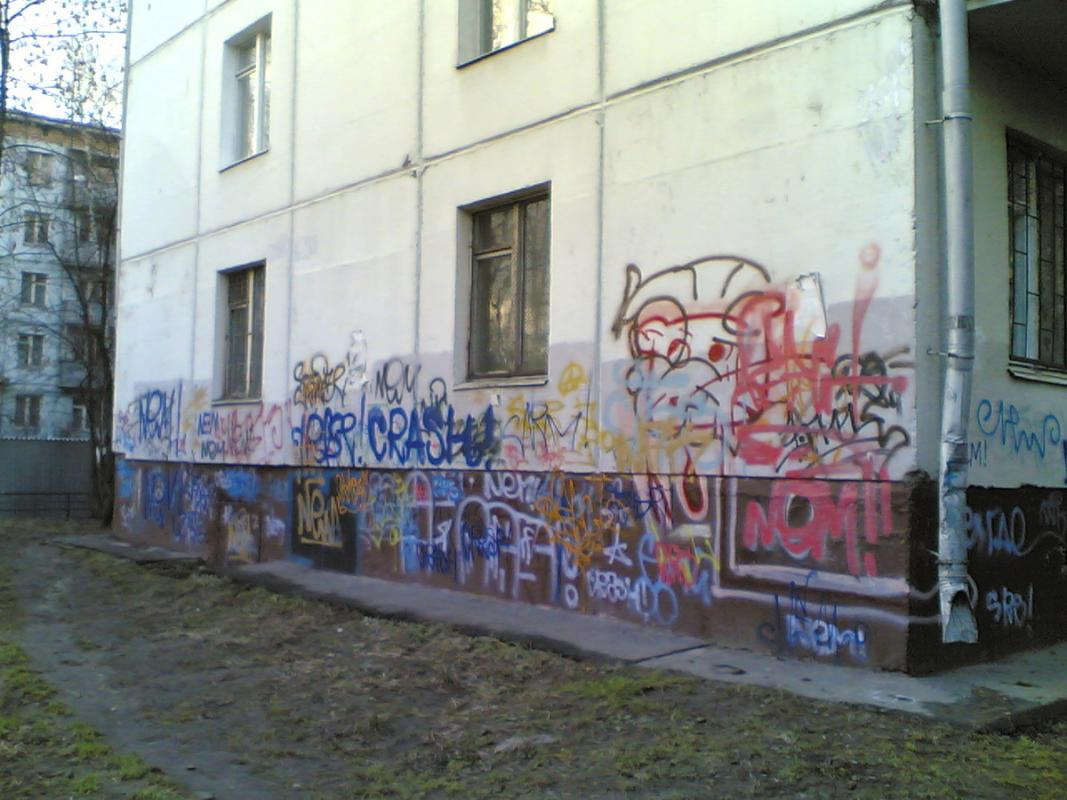graphite: (623, 265, 916, 482), (535, 486, 719, 624), (387, 474, 528, 592), (743, 472, 898, 573), (291, 365, 366, 559), (370, 366, 497, 479), (505, 375, 612, 483), (962, 392, 1067, 489), (774, 592, 876, 665), (216, 476, 293, 563), (198, 403, 301, 466), (949, 501, 1034, 570), (129, 475, 213, 541), (125, 395, 194, 465), (984, 585, 1047, 638)
